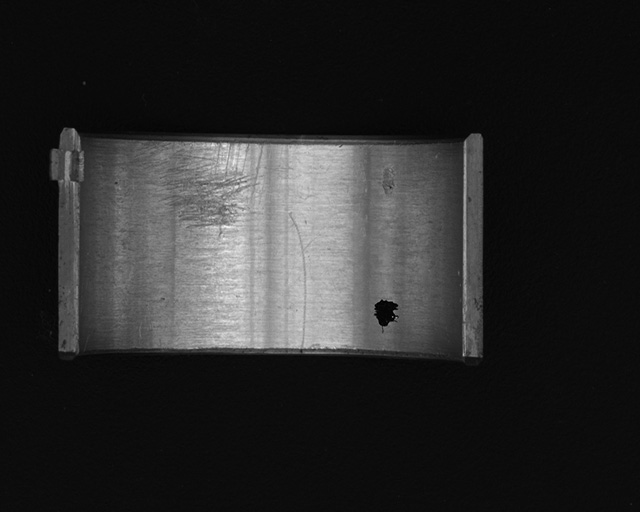blot: (373, 298, 399, 334)
bruise: (380, 167, 396, 195)
nick: (288, 211, 307, 351)
scratch: (138, 137, 266, 239)
